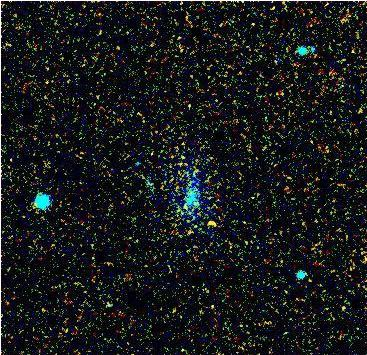star: (196, 207, 226, 237)
